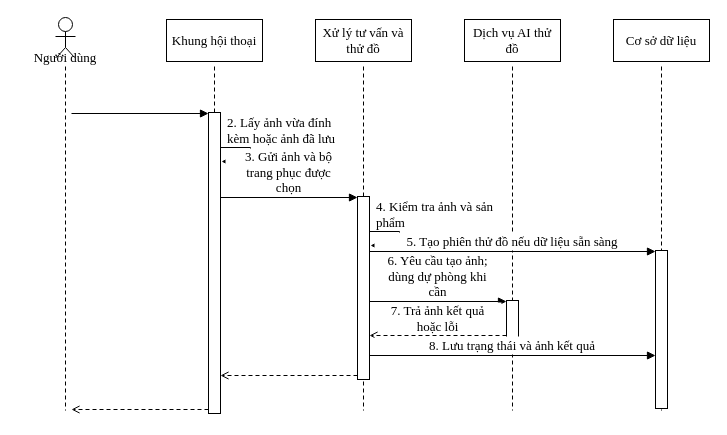
Some shapes in this 727 by 435 pixel diagram are drawn without their labels. Here are the shapes that lost their labels. From the top down, the centre of each, then its label:
At (x=139, y=96): "1. Chọn thử đồ trong hội thoại".
At (x=288, y=365): "9. Trả kết quả thử đồ".
At (x=139, y=392): "10. Hiển thị ảnh ngay trong hội thoại".
